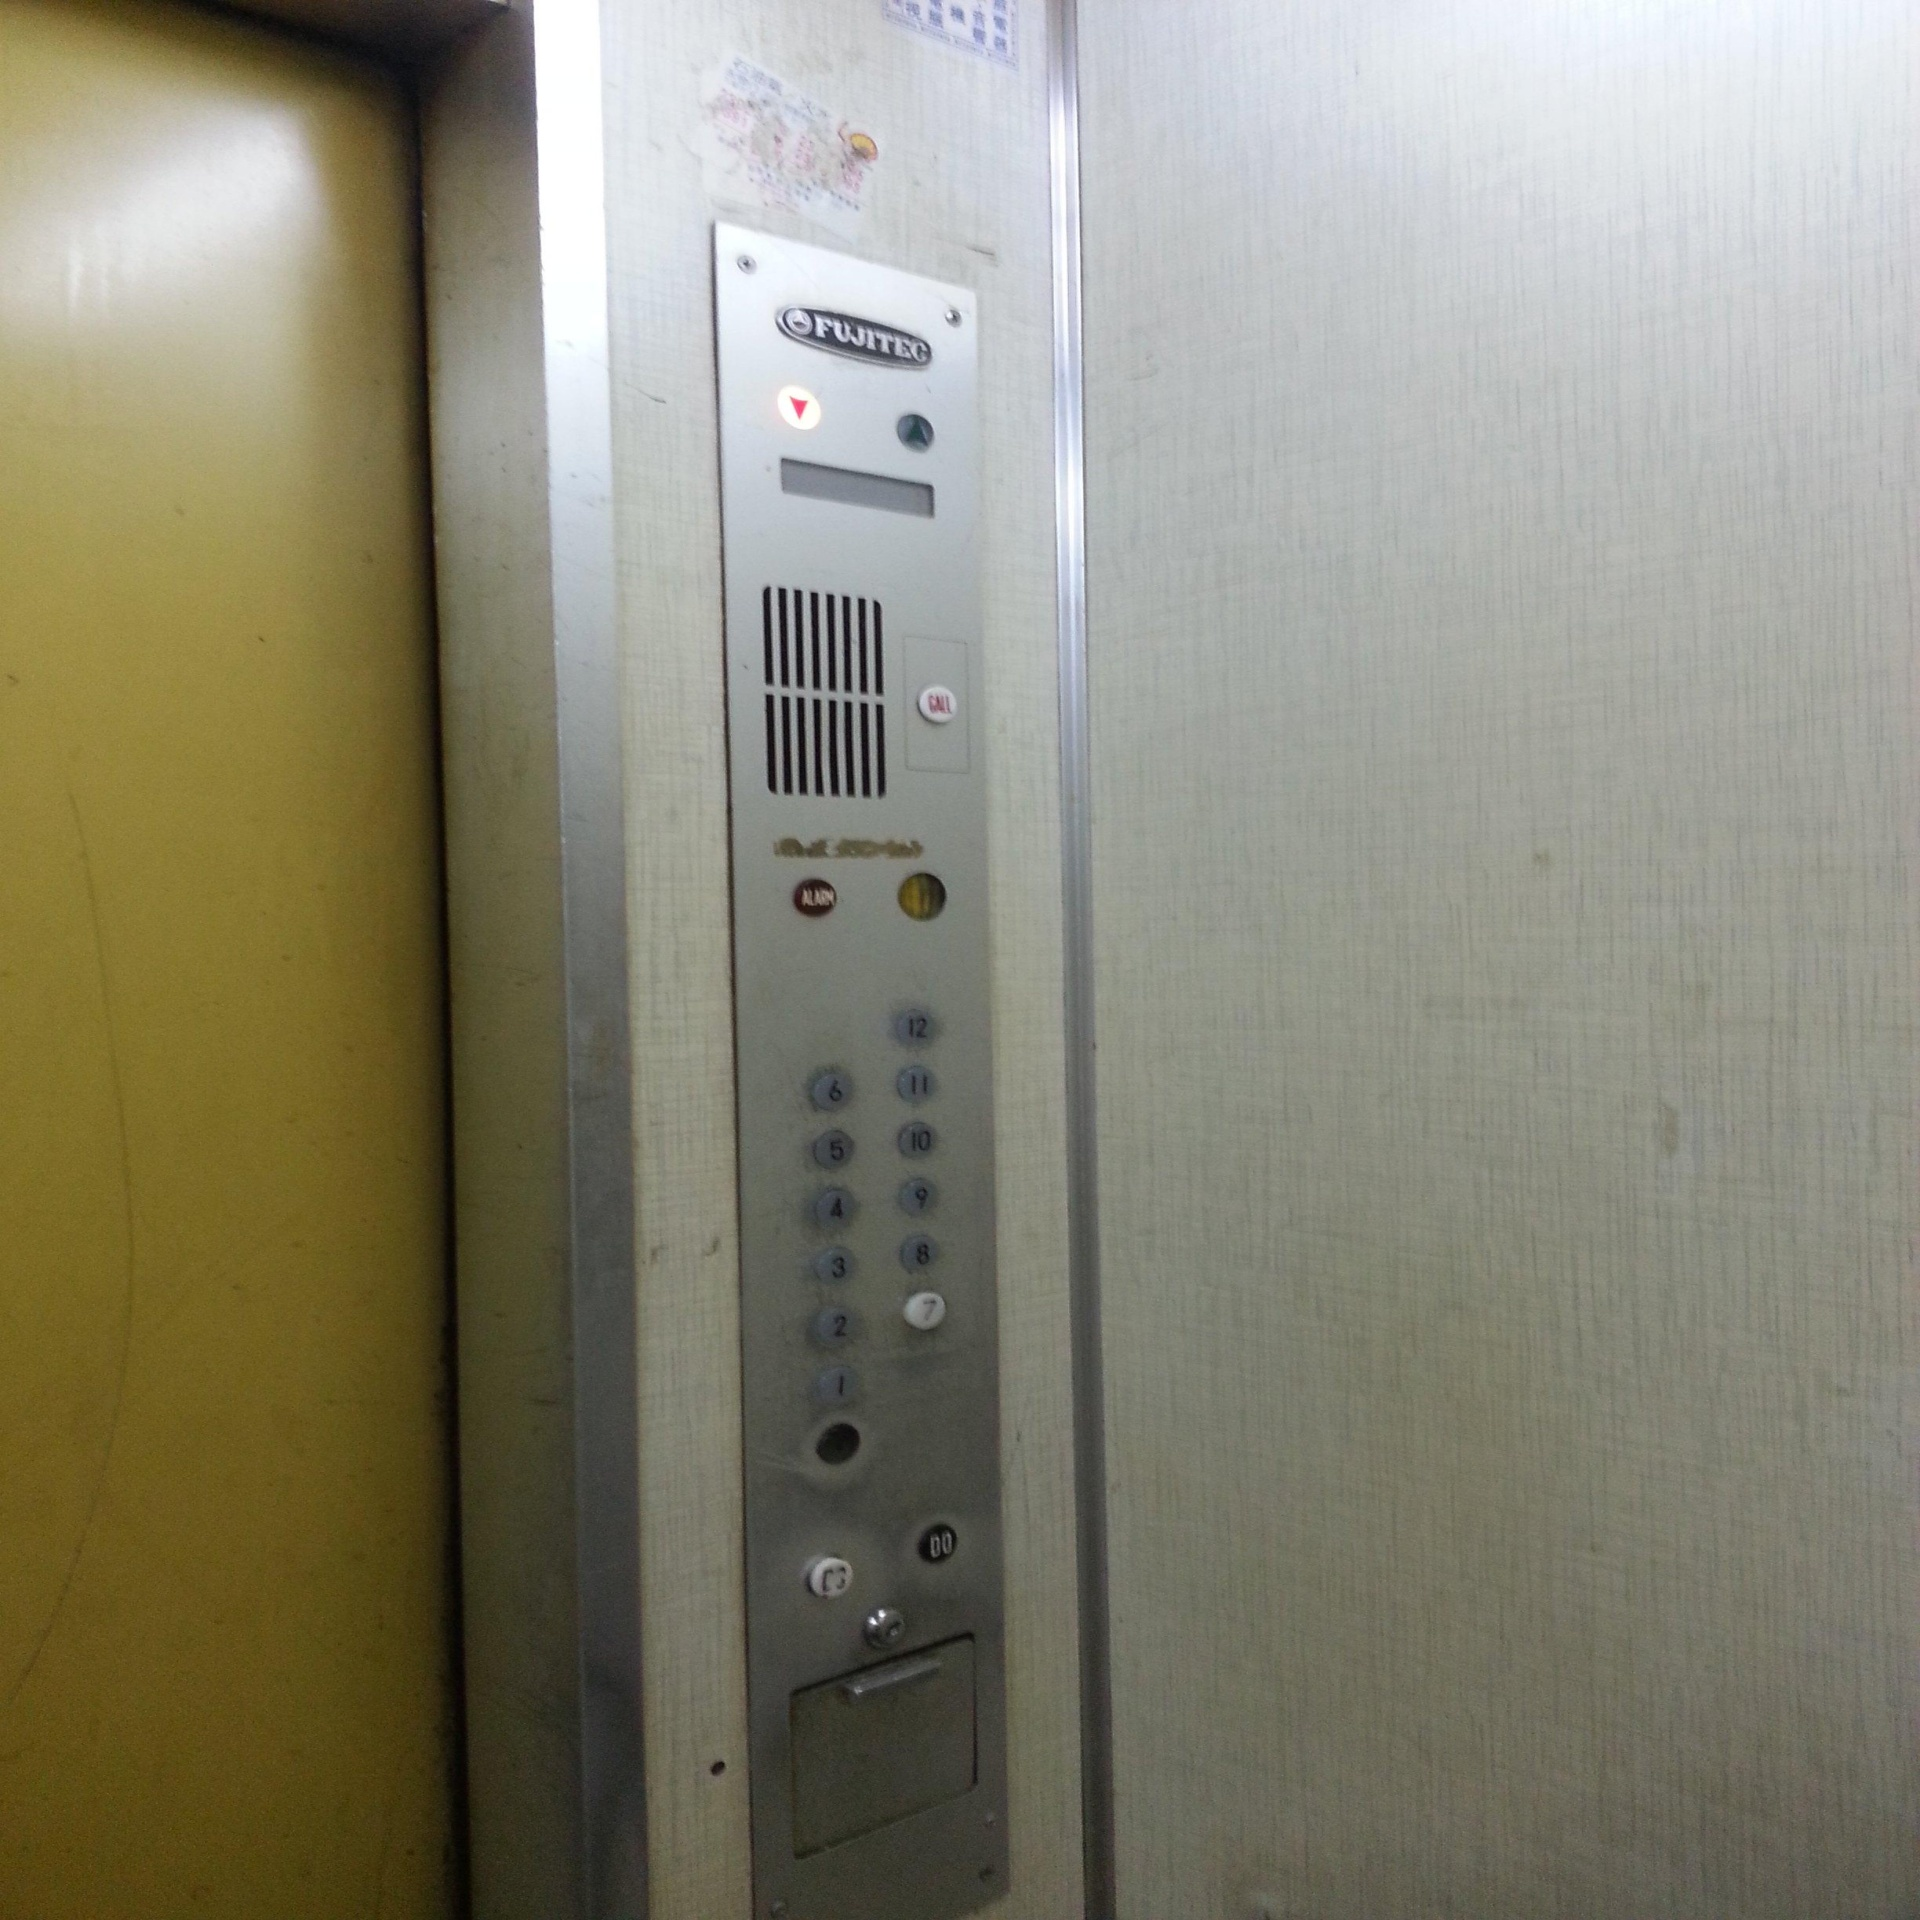1: (818, 1364, 860, 1407)
10: (900, 1122, 935, 1159)
11: (898, 1067, 935, 1102)
12: (897, 1009, 935, 1048)
2: (814, 1306, 856, 1347)
3: (816, 1248, 855, 1285)
4: (816, 1189, 856, 1227)
5: (812, 1131, 856, 1167)
6: (812, 1073, 855, 1111)
7: (904, 1292, 944, 1329)
8: (900, 1236, 939, 1269)
9: (898, 1180, 935, 1215)
DO: (916, 1524, 962, 1561)
blur: (898, 874, 949, 920), (816, 1422, 862, 1465)
call: (920, 686, 958, 724)
down: (777, 382, 825, 433)
keyhole: (865, 1607, 904, 1649)
text: (791, 879, 839, 916)
unknown: (811, 1558, 853, 1598)
up: (895, 410, 935, 452)
